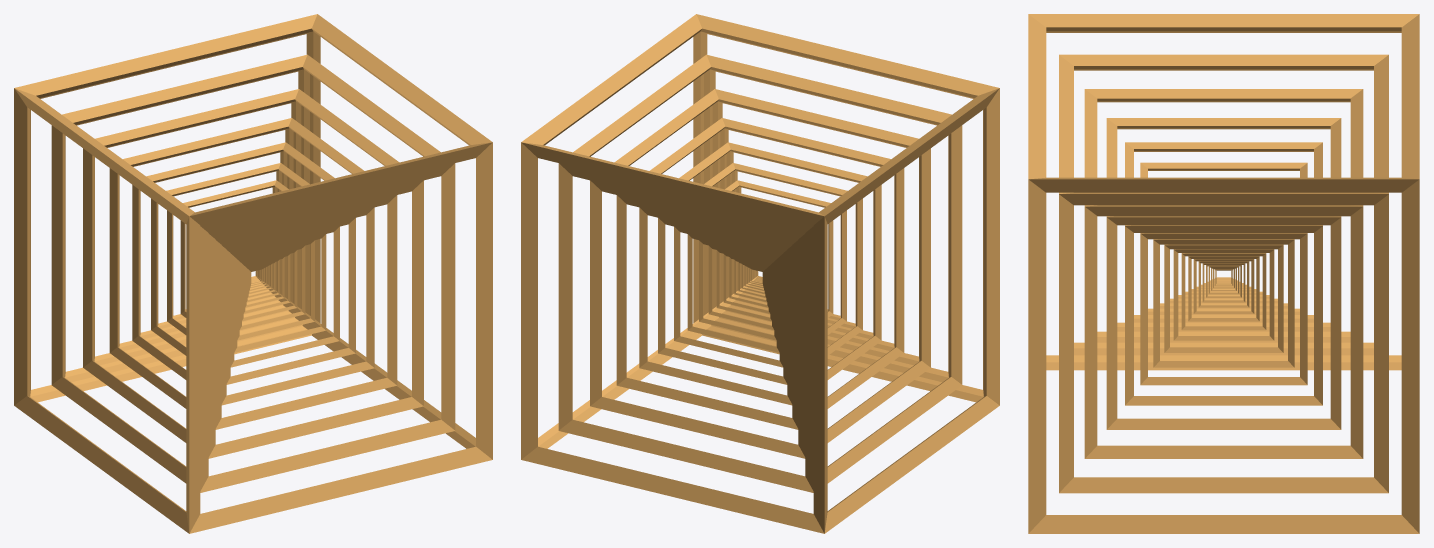
The model's file is array-three.glb.
The picture shows the model from 3 angles, left to right: view 1: azimuth 30°, elevation 25°; view 2: azimuth 150°, elevation 25°; view 3: azimuth 270°, elevation 25°; orthographic projection. The views are drawn at different scales.
Visible parts, largest first — view 1: Cube; view 2: Cube; view 3: Cube.
Part boxes in pixels (bbox=[...]): Cube: bbox=[14, 14, 492, 533]; Cube: bbox=[521, 14, 999, 533]; Cube: bbox=[1028, 14, 1419, 533].
Bounding box in the file's own units: 52.25 × 52.25 × 52.25.
